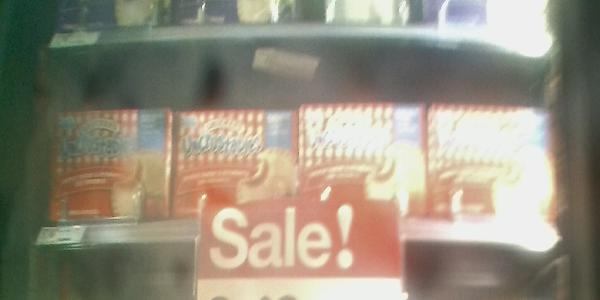icecream: (425, 99, 559, 233), (299, 100, 427, 230), (42, 103, 170, 226), (172, 107, 298, 228)
